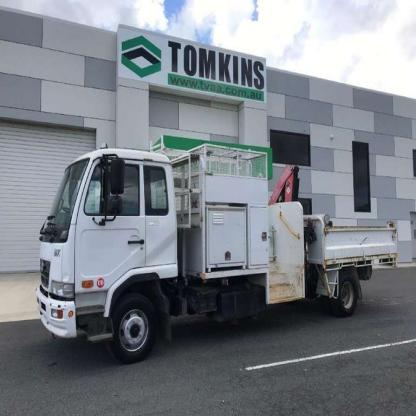dump_truck: (15, 137, 416, 381)
